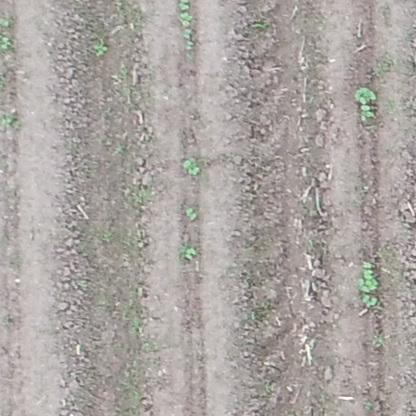vc: (356, 267, 379, 291), (355, 86, 375, 105), (184, 158, 200, 175), (360, 108, 378, 122), (185, 206, 199, 222), (362, 295, 379, 308), (179, 12, 194, 25), (185, 245, 196, 261), (182, 29, 193, 39), (179, 1, 191, 9)
